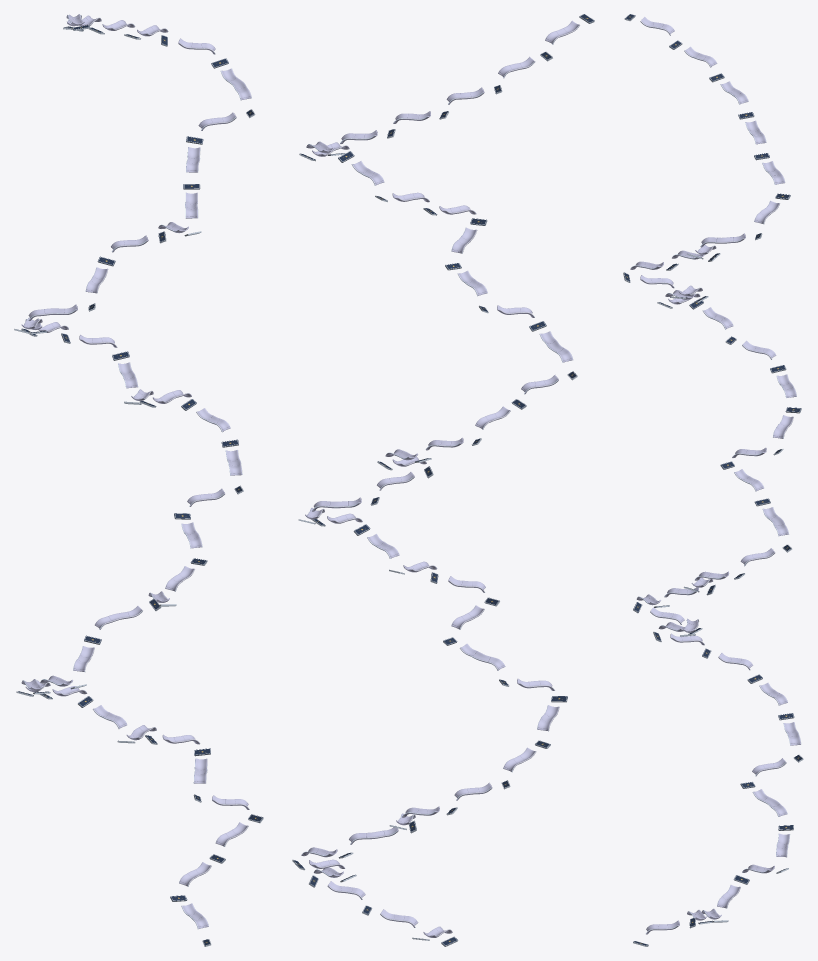
Rendered from C-route-v027-01.glb.
The picture shows the model from 3 angles, left to right: view 1: azimuth 30°, elevation 25°; view 2: azimuth 150°, elevation 25°; view 3: azimuth 270°, elevation 25°; orthographic projection. The views are drawn at different scales.
Bounding box in the file's own units: 0.4243 × 1.5 × 0.2822.
5 materials, 1 textured.
